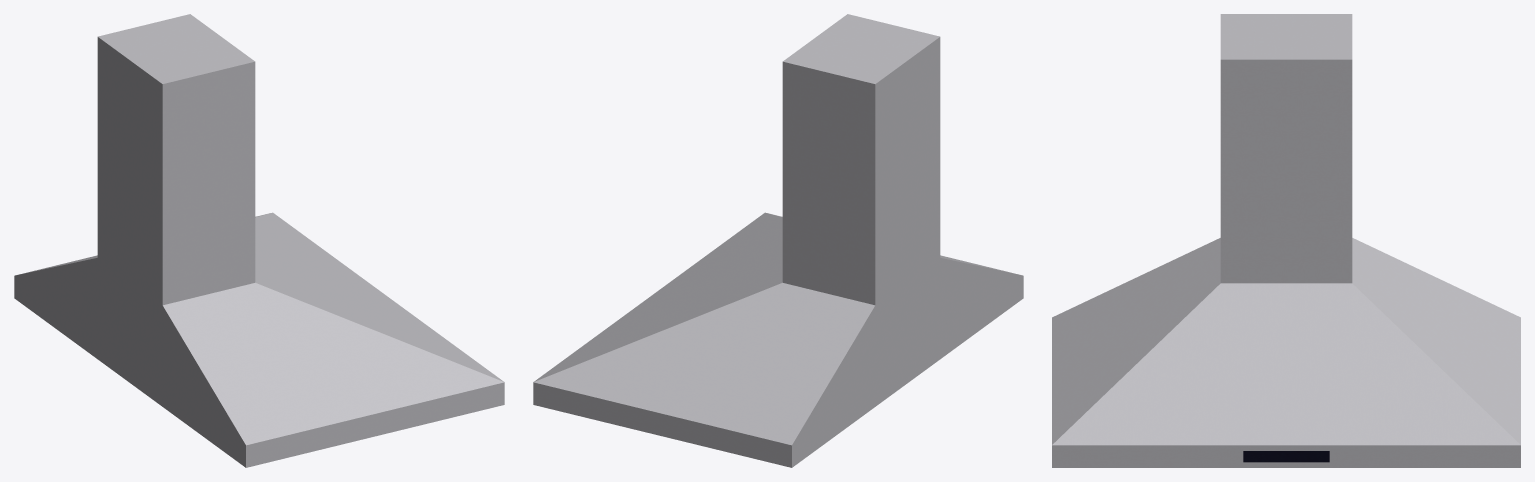
The model's file is Mdl.KitchenHood.fbx.
3 renders of one model, left to right at view 1: azimuth 30°, elevation 25°; view 2: azimuth 150°, elevation 25°; view 3: azimuth 270°, elevation 25°, orthographic.
Parts seen in each view (by area): view 1: KitchenHood; view 2: KitchenHood; view 3: KitchenHood.
Part boxes in pixels (x1=…): KitchenHood: x1=14, y1=14, x2=504, y2=467; KitchenHood: x1=533, y1=14, x2=1023, y2=467; KitchenHood: x1=1052, y1=14, x2=1520, y2=467.
Bounding box in the file's own units: 0.48 × 0.572 × 0.745.
Materials: 1 (1 with a texture image).
